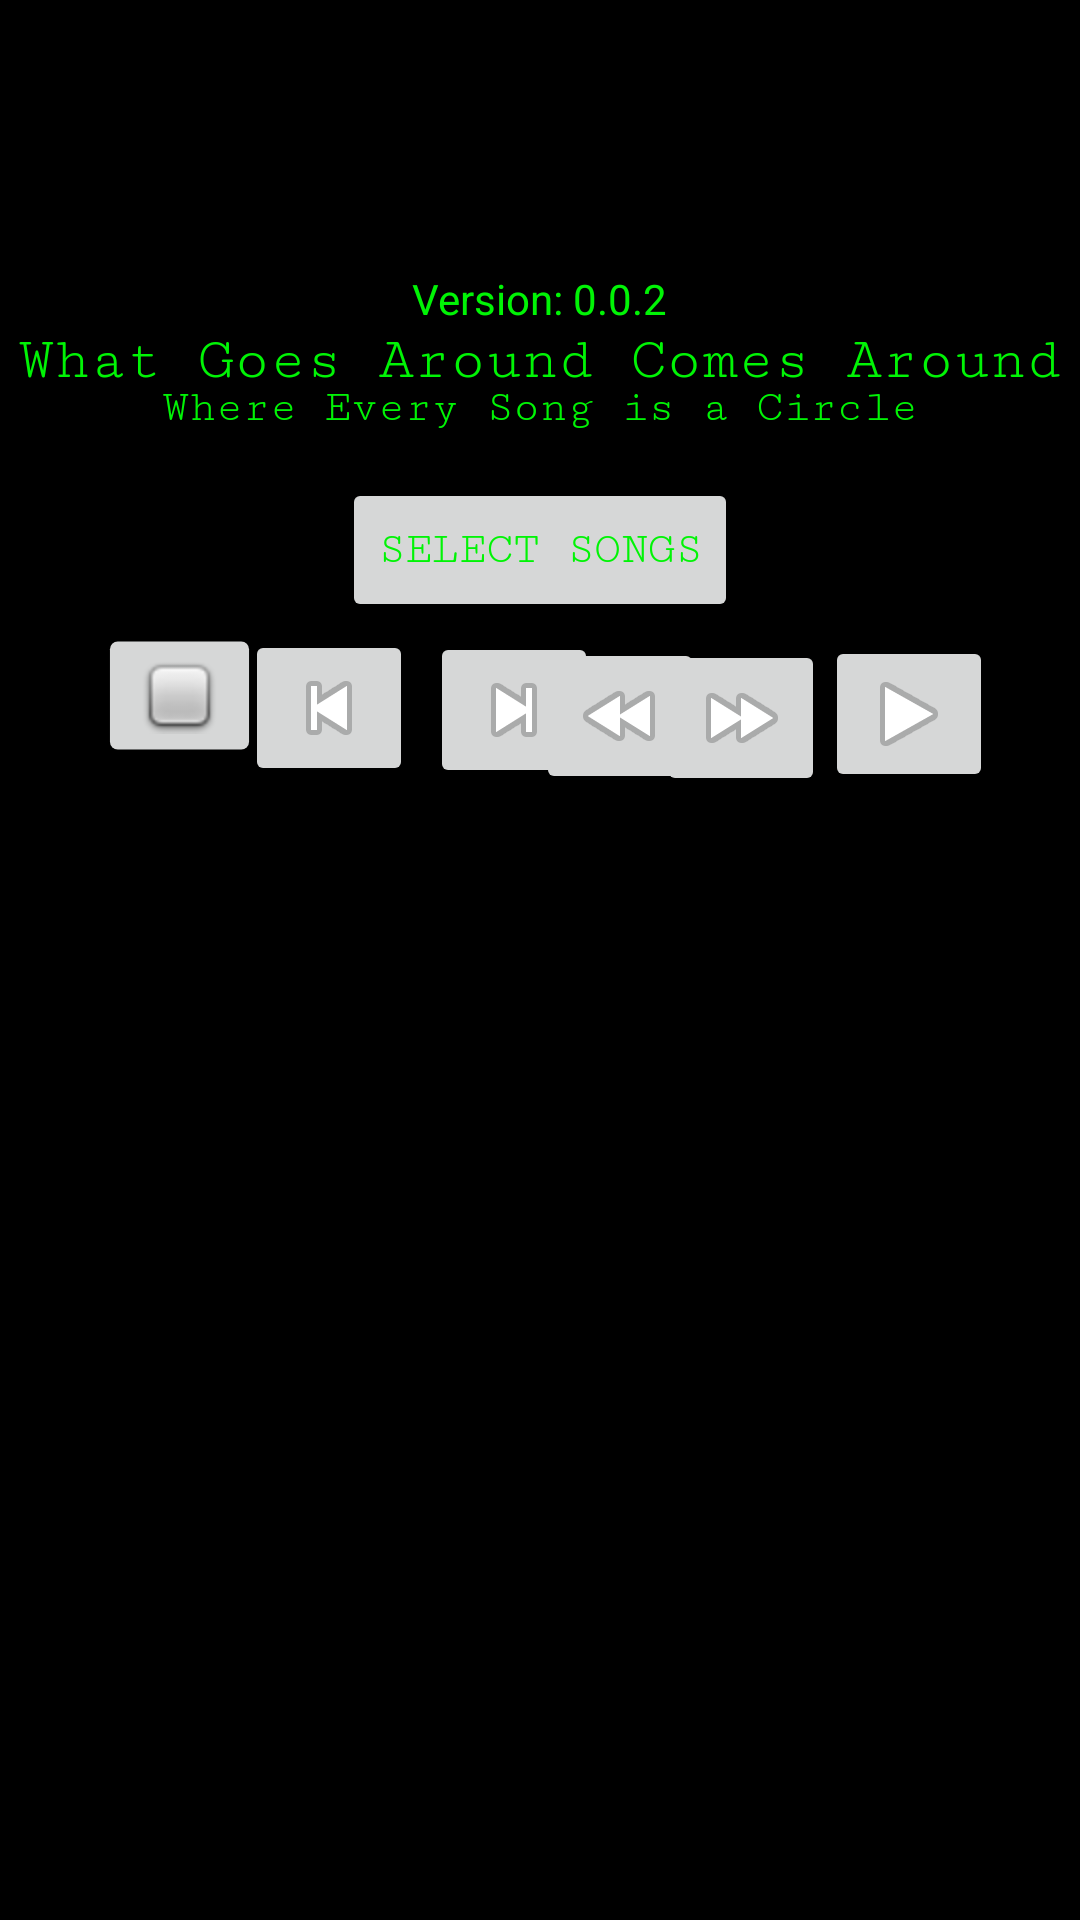

Icon click points for this 1080 × 1920 phone screenshot, format (x,y):
play: (909,714)
previous: (329,708)
